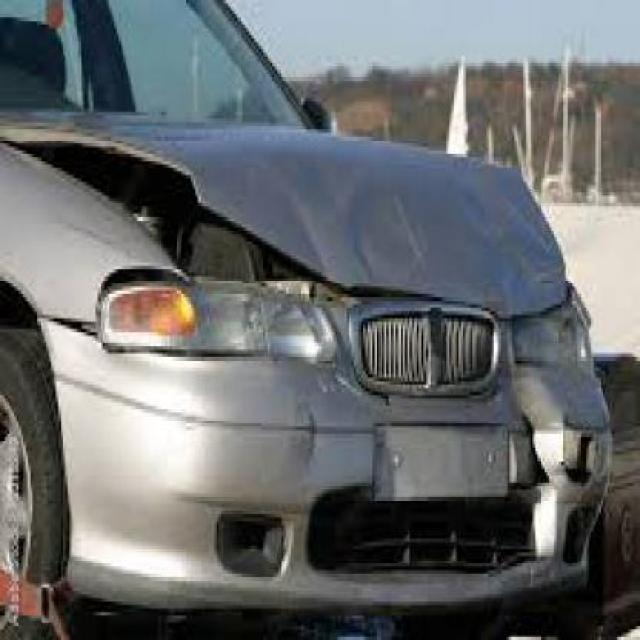damaged-front-bumper: (35, 328, 614, 622)
